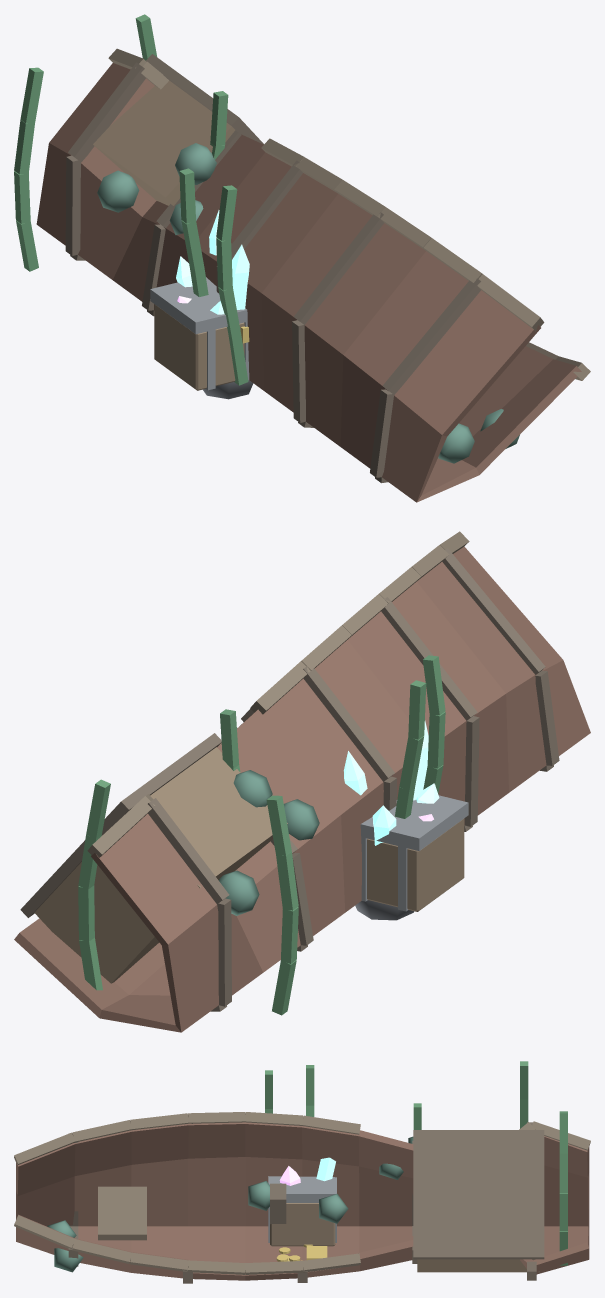
File: gorge_deep.glb
3 renders of one model, top to bottom at view 1: azimuth 30°, elevation 25°; view 2: azimuth 150°, elevation 25°; view 3: azimuth 270°, elevation 25°, orthographic. The views are drawn at different scales.
Parts seen in each view (by area): view 1: gw_wreck_mesh, gw_cache_mesh, gw_crystals_mesh; view 2: gw_wreck_mesh, gw_cache_mesh, gw_crystals_mesh; view 3: gw_wreck_mesh, gw_cache_mesh, gw_crystals_mesh.
Part boxes in pixels (left/top/right/bottom): gw_wreck_mesh: left=14, top=14, right=590, bottom=502; gw_cache_mesh: left=150, top=277, right=249, bottom=390; gw_crystals_mesh: left=176, top=210, right=253, bottom=399; gw_wreck_mesh: left=14, top=531, right=590, bottom=1032; gw_cache_mesh: left=360, top=795, right=468, bottom=911; gw_crystals_mesh: left=343, top=720, right=439, bottom=920; gw_wreck_mesh: left=14, top=1061, right=590, bottom=1283; gw_cache_mesh: left=268, top=1176, right=336, bottom=1261; gw_crystals_mesh: left=279, top=1157, right=335, bottom=1185.
Bounding box in the file's own units: 2.77 × 2.36 × 7.05.
